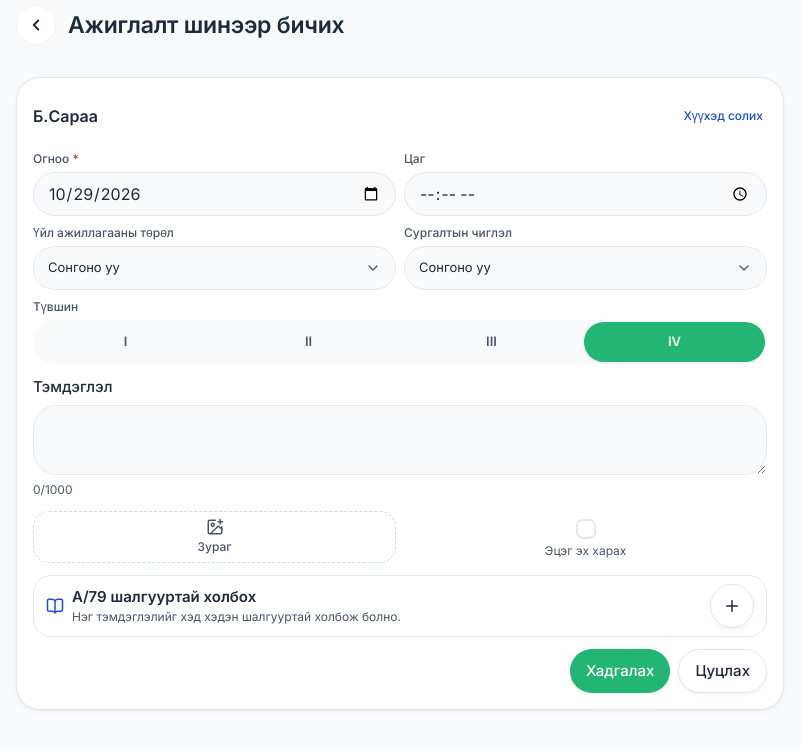
Scenario: Шинэ ажиглалт — the form's own fields › picks the activity from the day's stages rather than typing it
Click the dropdown named "Үйл ажиллагааны төрөл": [84, 267] box [33, 246, 396, 290]
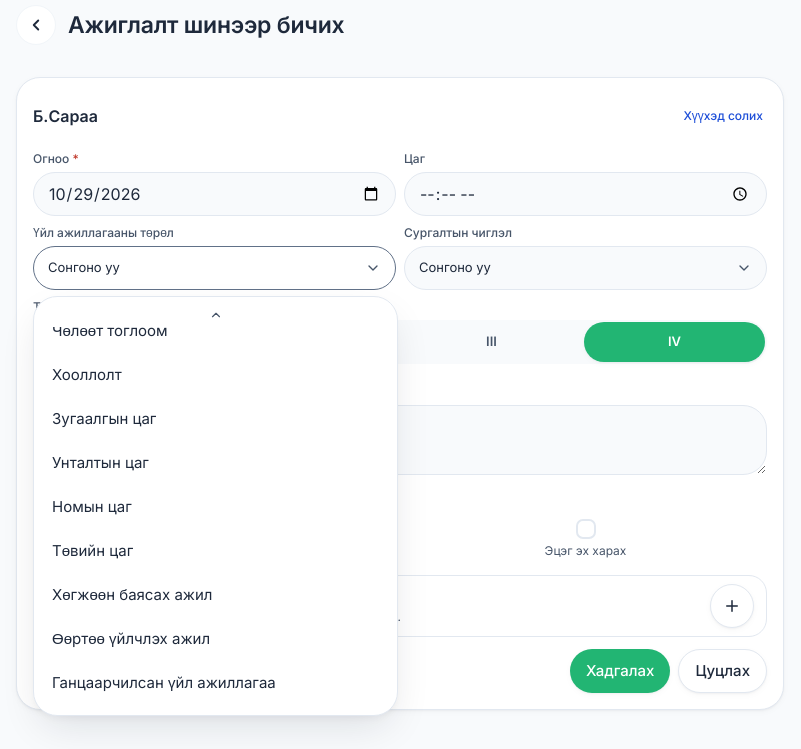
Now the option "Ганцаарчилсан үйл ажиллагаа" is shown, box [52, 673, 276, 692]
